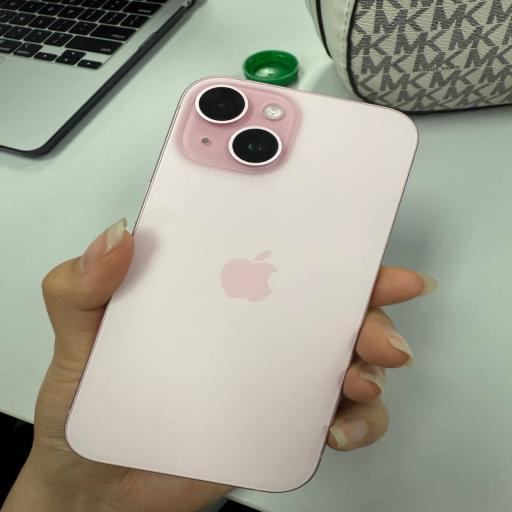door: (307, 0, 511, 113)
glass_wall: (0, 0, 193, 155)
people: (66, 78, 417, 491)
stroller: (231, 107, 511, 511)
